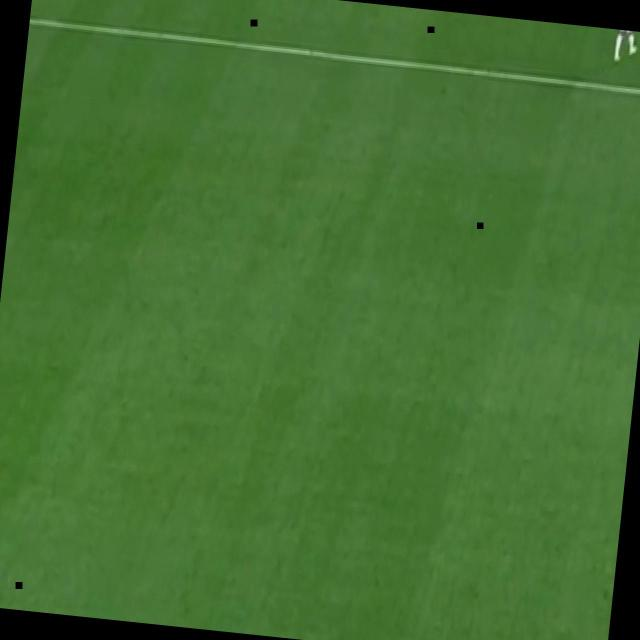player-white: (607, 28, 640, 72)
